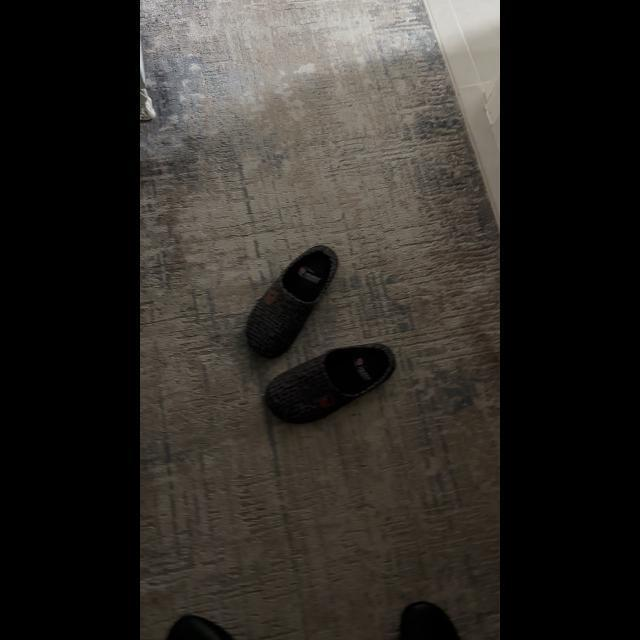slipper: (258, 338, 398, 429), (242, 241, 340, 355)
